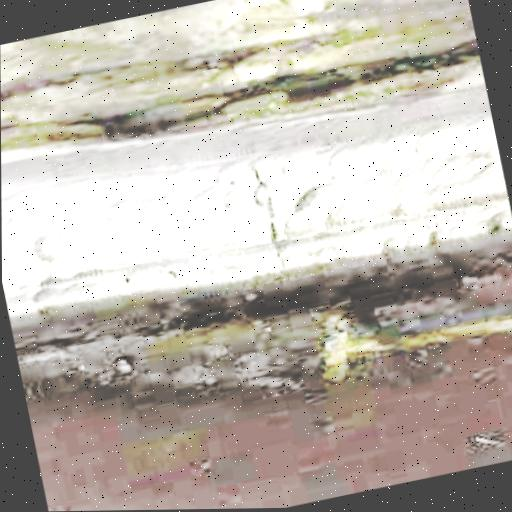crack: (252, 166, 284, 267)
